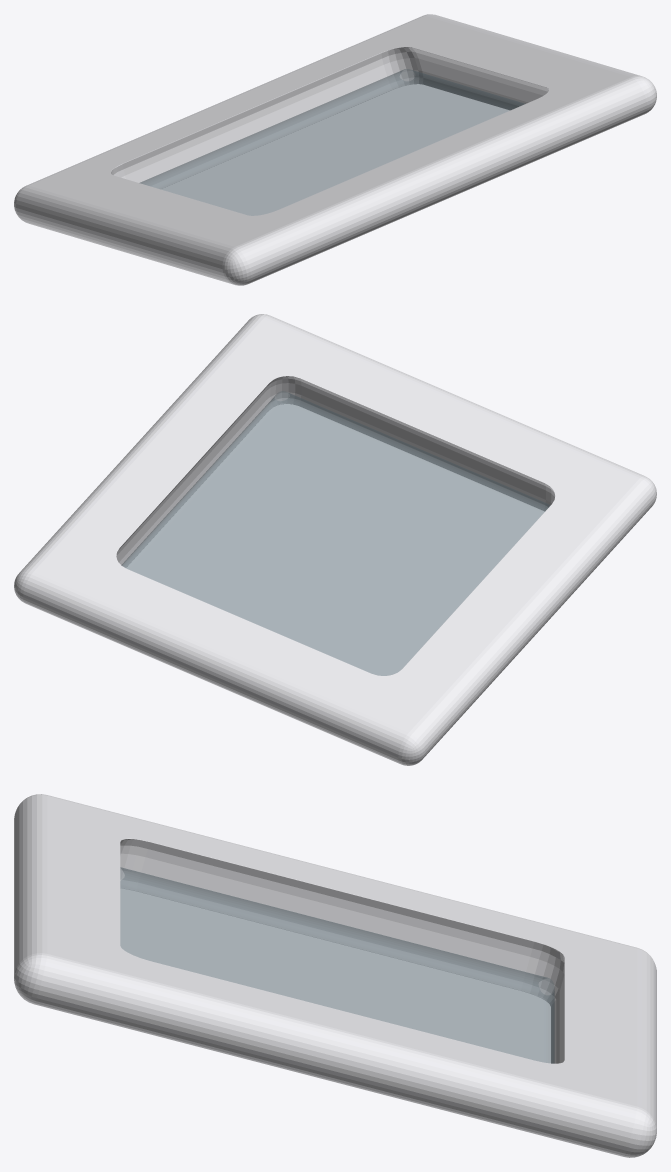
Rendered from metal_frame.glb.
3 renders of one model, top to bottom at view 1: azimuth 30°, elevation 25°; view 2: azimuth 150°, elevation 25°; view 3: azimuth 270°, elevation 25°, orthographic. The views are drawn at different scales.
Visible parts, largest first — view 1: MetalFrame, GlassPanel; view 2: MetalFrame, GlassPanel; view 3: MetalFrame, GlassPanel.
Boxes of the visible parts, x1,y1,x2,y2 form: MetalFrame: (14, 14, 656, 285); GlassPanel: (140, 69, 524, 215); MetalFrame: (14, 314, 656, 765); GlassPanel: (121, 391, 550, 675); MetalFrame: (14, 794, 656, 1157); GlassPanel: (120, 867, 554, 1063).
Bounding box in the file's own units: 1.54 × 0.7111 × 1.45.
